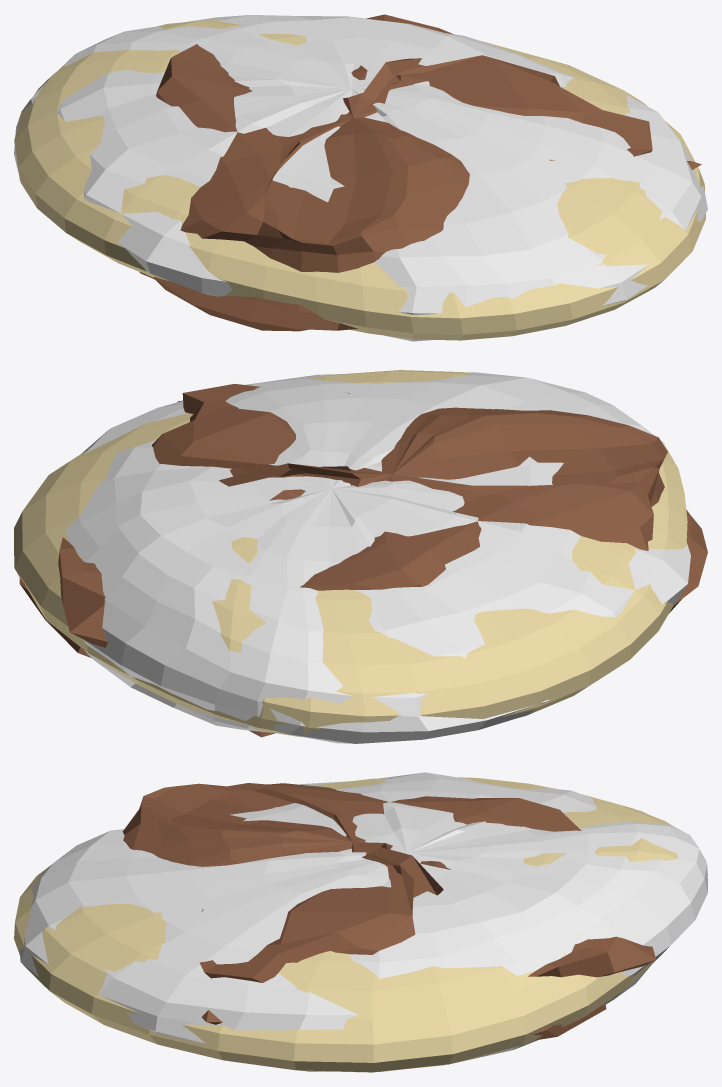
Rendered from rawChicken_v2_FlourEggBread.fbx.
3 views of the same model, one above another, from view 1: azimuth 30°, elevation 25°; view 2: azimuth 150°, elevation 25°; view 3: azimuth 270°, elevation 25° (orthographic). The views are drawn at different scales.
Parts seen in each view (by area): view 1: flour, flour.001, Sphere; view 2: flour, Sphere, flour.001; view 3: flour, Sphere, flour.001.
Part boxes in pixels (x1,y1,x2,y2): flour: (14, 15, 707, 341); flour.001: (139, 14, 701, 331); Sphere: (14, 19, 705, 340); flour: (65, 372, 690, 743); Sphere: (14, 370, 687, 736); flour.001: (19, 383, 707, 737); flour: (19, 772, 707, 1071); Sphere: (14, 777, 707, 1072); flour.001: (122, 783, 656, 1040).
Bounding box in the file's own units: 106 × 28.3 × 120.
